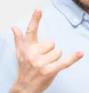back: (11, 9, 86, 87)
